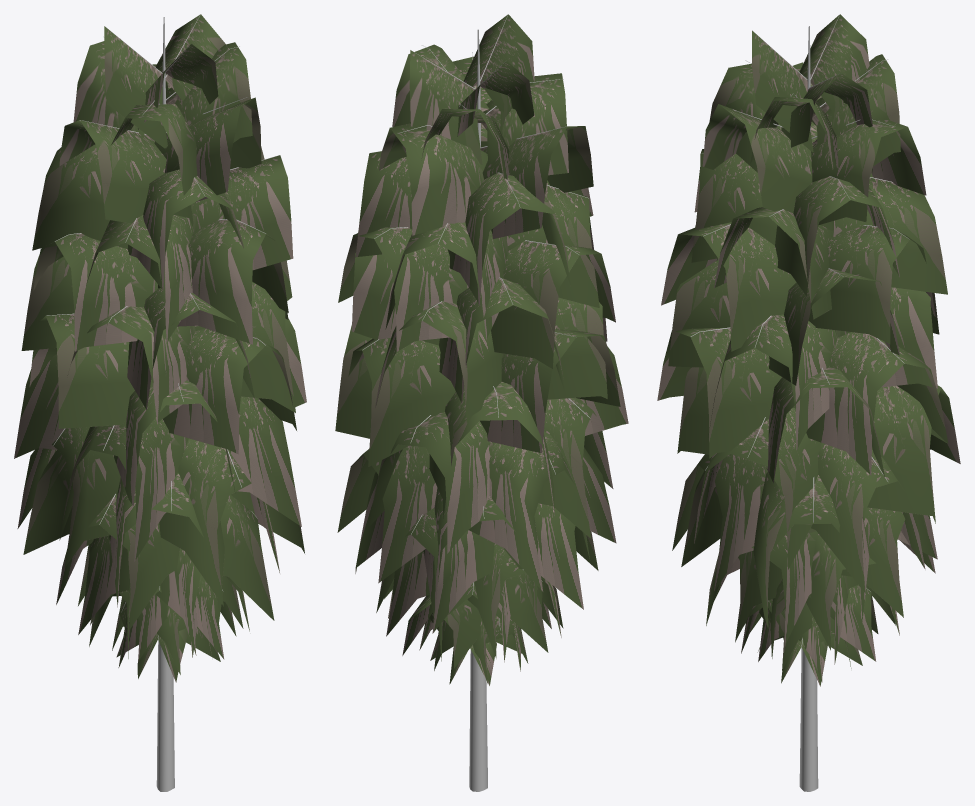
File: spruce_tree_a_lod0.fbx
The picture shows the model from 3 angles, left to right: view 1: azimuth 30°, elevation 25°; view 2: azimuth 150°, elevation 25°; view 3: azimuth 270°, elevation 25°; orthographic projection.
Visible parts, largest first — view 1: LOD0; view 2: LOD0; view 3: LOD0.
Part boxes in pixels (x1,y1,x2,y2): LOD0: [14, 14, 306, 791]; LOD0: [335, 14, 628, 791]; LOD0: [657, 14, 960, 791].
Bounding box in the file's own units: 1415 × 4174 × 1508.
